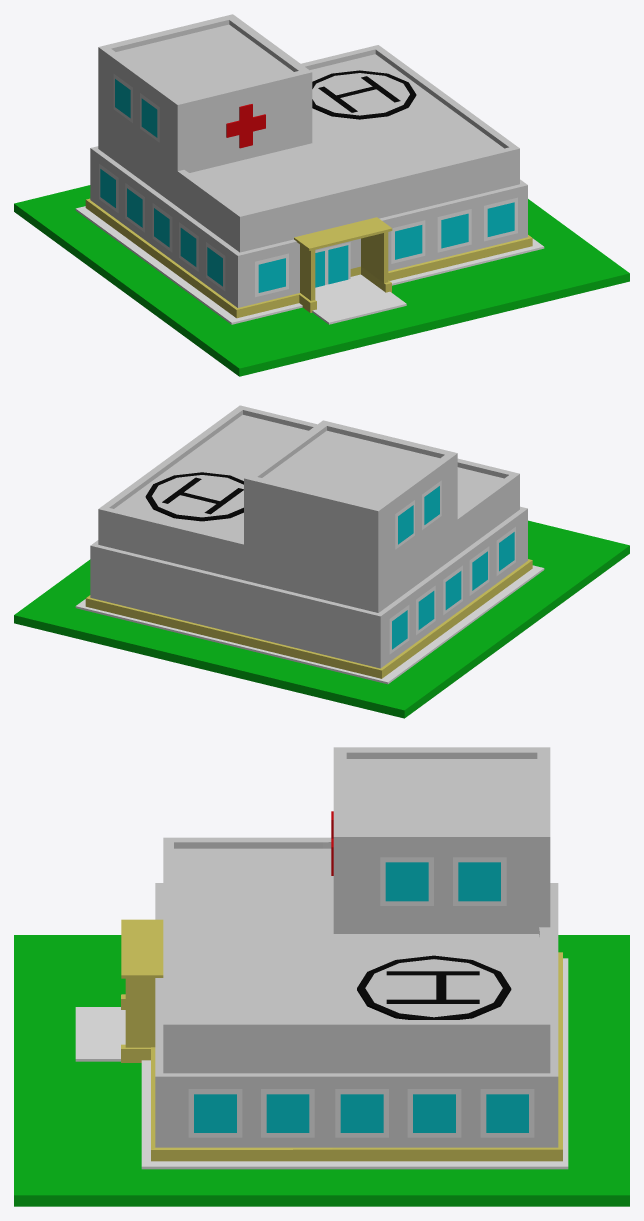
File: Hospital.fbx
3 views of the same model, one above another, from view 1: azimuth 30°, elevation 25°; view 2: azimuth 150°, elevation 25°; view 3: azimuth 270°, elevation 25° (orthographic). The views are drawn at different scales.
Parts seen in each view (by area): view 1: Box009, Box008, Box009.001, Box010, Cylinder, Plane001, Plane.032, Plane.035, Plane.037, Plane.034, Plane.041, Plane.031 (+2 smaller); view 2: Box009, Box008, Box009.001, Box010, Cylinder, Plane.012, Plane.006, Plane.011, Plane.010, Plane.024, Plane.003, Plane.023; view 3: Box009, Box008, Box009.001, Box010, Cylinder, Plane.029, Plane.030, Plane.019, Plane.014, Plane.022, Plane.016, Plane.015 (+7 smaller).
Boxes of the visible parts, x1=… form: Box009: x1=90, y1=14, x2=527, y2=307; Box008: x1=14, y1=185, x2=629, y2=376; Box009.001: x1=85, y1=198, x2=532, y2=318; Box010: x1=75, y1=206, x2=544, y2=324; Cylinder: x1=312, y1=70, x2=416, y2=119; Plane001: x1=226, y1=104, x2=265, y2=148; Plane.032: x1=441, y1=213, x2=468, y2=248; Plane.035: x1=487, y1=202, x2=514, y2=236; Plane.037: x1=258, y1=258, x2=285, y2=292; Plane.034: x1=395, y1=225, x2=422, y2=259; Plane.041: x1=328, y1=245, x2=348, y2=284; Plane.031: x1=437, y1=209, x2=471, y2=252; Box009: x1=90, y1=405, x2=527, y2=668; Box008: x1=14, y1=520, x2=629, y2=718; Box009.001: x1=85, y1=559, x2=532, y2=678; Box010: x1=75, y1=565, x2=544, y2=684; Cylinder: x1=145, y1=472, x2=243, y2=521; Plane.012: x1=418, y1=591, x2=434, y2=629; Plane.006: x1=445, y1=571, x2=461, y2=609; Plane.011: x1=392, y1=610, x2=407, y2=649; Plane.010: x1=499, y1=532, x2=514, y2=571; Plane.024: x1=398, y1=505, x2=413, y2=544; Plane.003: x1=472, y1=551, x2=487, y2=590; Plane.023: x1=424, y1=486, x2=439, y2=524; Box009: x1=155, y1=747, x2=558, y2=1147; Box008: x1=14, y1=935, x2=629, y2=1206; Box009.001: x1=121, y1=919, x2=562, y2=1161; Box010: x1=75, y1=958, x2=568, y2=1169; Cylinder: x1=357, y1=955, x2=511, y2=1019; Plane.029: x1=385, y1=862, x2=428, y2=901; Plane.030: x1=458, y1=862, x2=500, y2=901; Plane.019: x1=340, y1=1094, x2=383, y2=1132; Plane.014: x1=266, y1=1094, x2=309, y2=1132; Plane.022: x1=413, y1=1094, x2=455, y2=1132; Plane.016: x1=486, y1=1094, x2=528, y2=1132; Plane.015: x1=194, y1=1094, x2=236, y2=1132.
Size of the model in its own units: 100 by 42.23 by 100.
